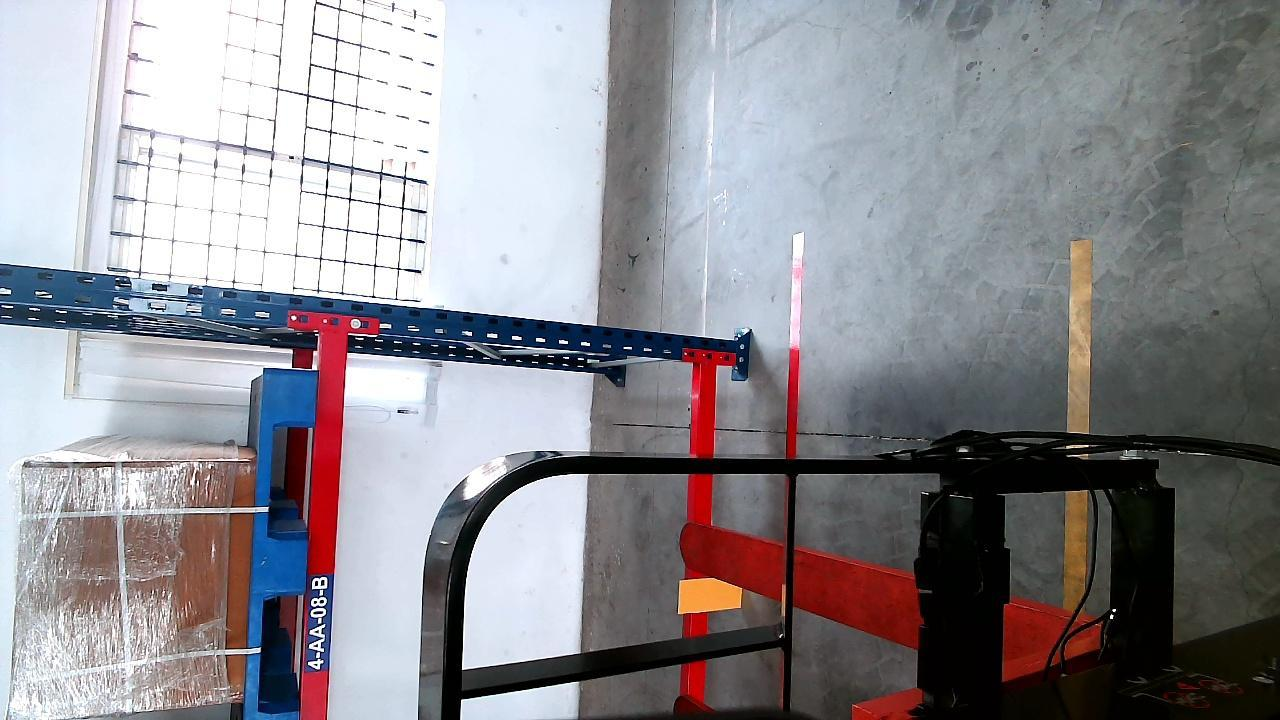red_line: (785, 220, 806, 477)
yellow_line: (1068, 233, 1090, 437)
